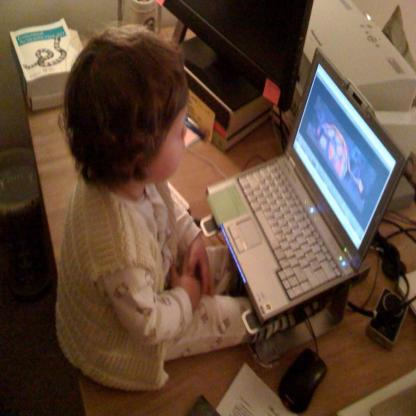board: (206, 46, 404, 323)
